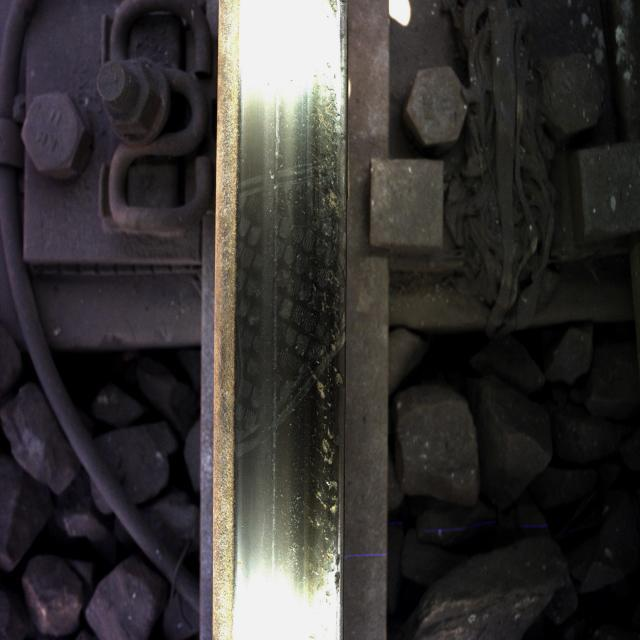scar: (271, 4, 345, 594)
